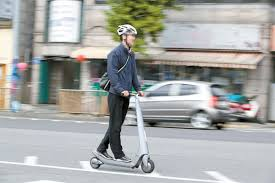helmet: (89, 22, 156, 175)
